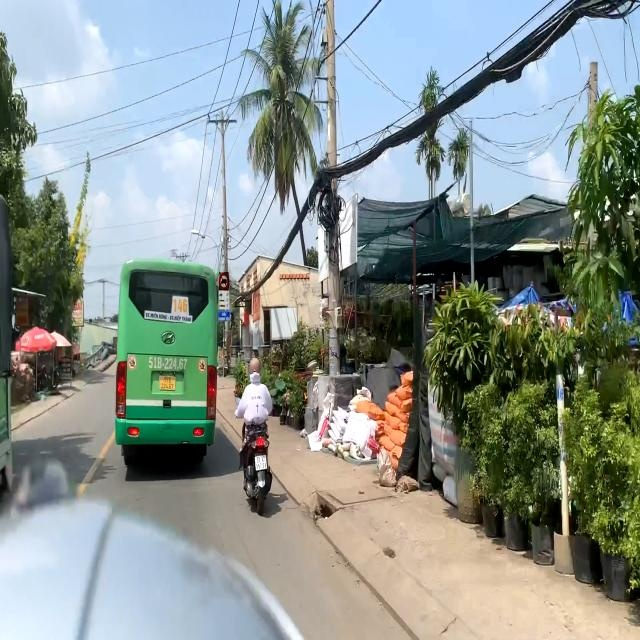bien_cam: (219, 272, 229, 290)
